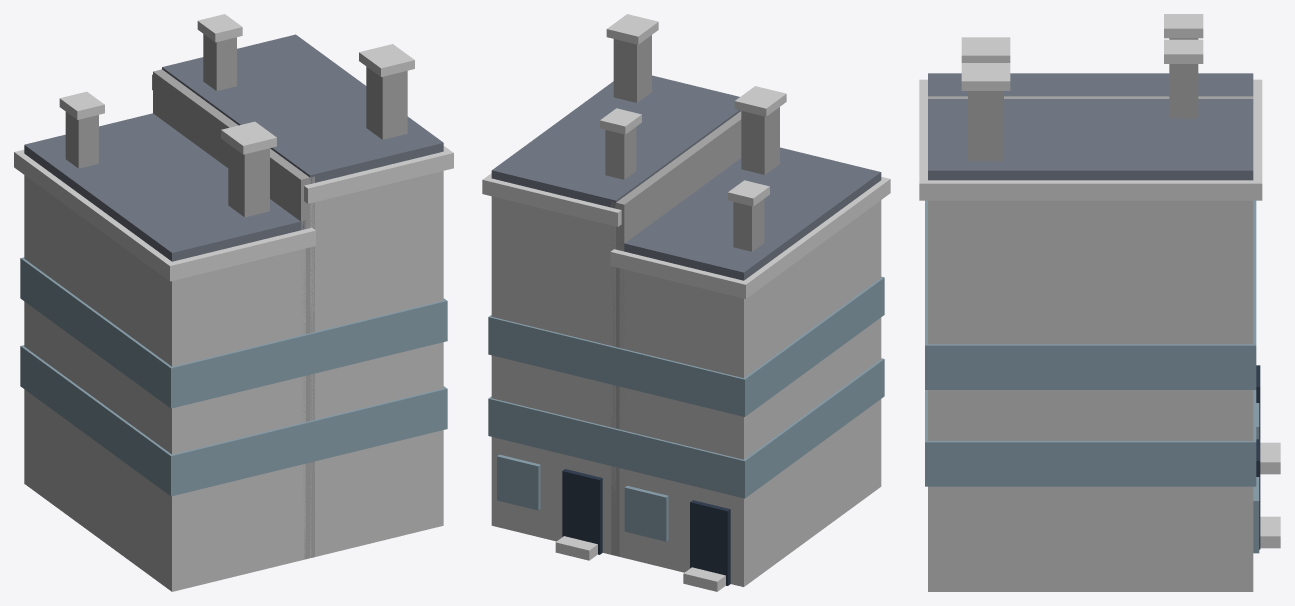
The model's file is building_small_rowhouse.glb.
3 views of the same model, side by side, from view 1: azimuth 30°, elevation 25°; view 2: azimuth 150°, elevation 25°; view 3: azimuth 270°, elevation 25° (orthographic). The views are drawn at different scales.
Visible parts, largest first — view 1: building_small_rowhouse; view 2: building_small_rowhouse; view 3: building_small_rowhouse.
Part boxes in pixels (left/top/right/bottom): building_small_rowhouse: left=14, top=14, right=453, bottom=591; building_small_rowhouse: left=482, top=14, right=890, bottom=591; building_small_rowhouse: left=919, top=14, right=1280, bottom=591.
Bounding box in the file's own units: 7.14 × 11 × 7.16.
